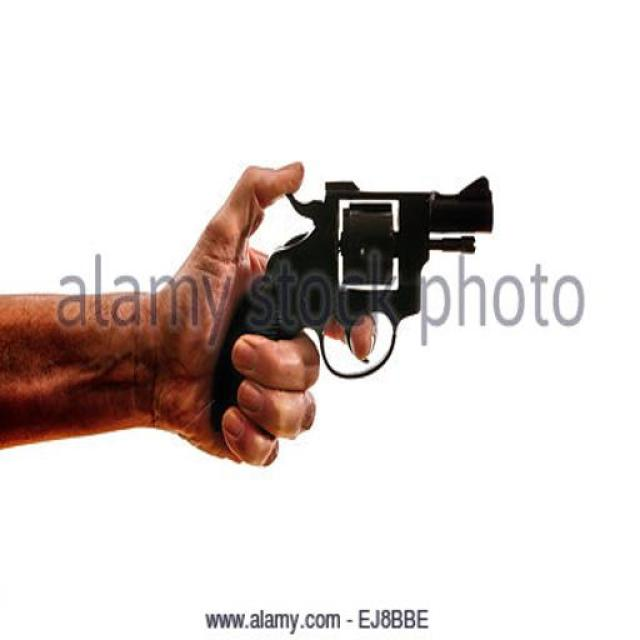pistol: (209, 170, 494, 441)
